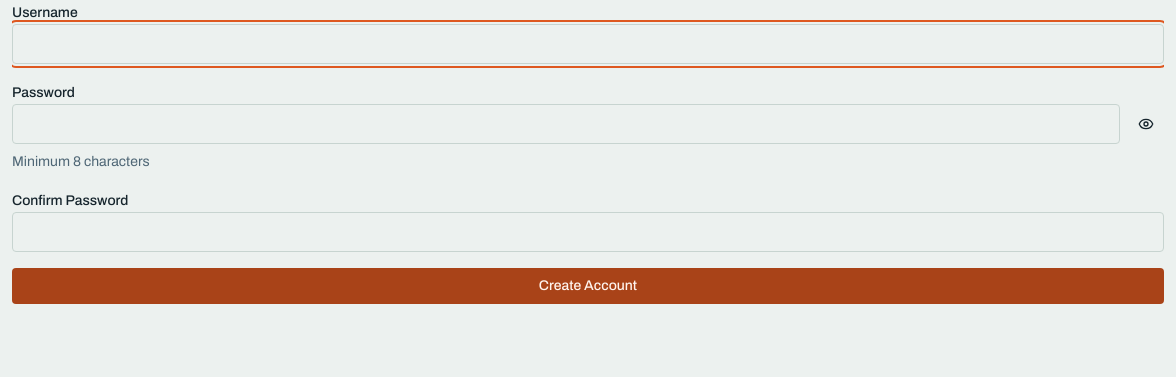
Scenario: LoginForm › password complexity (setup) › blocks a password missing uppercase/number/special when enforceComplexity is set
Type "admin" into the field labelled "Username" at (588, 44), box [12,24,1164,64]
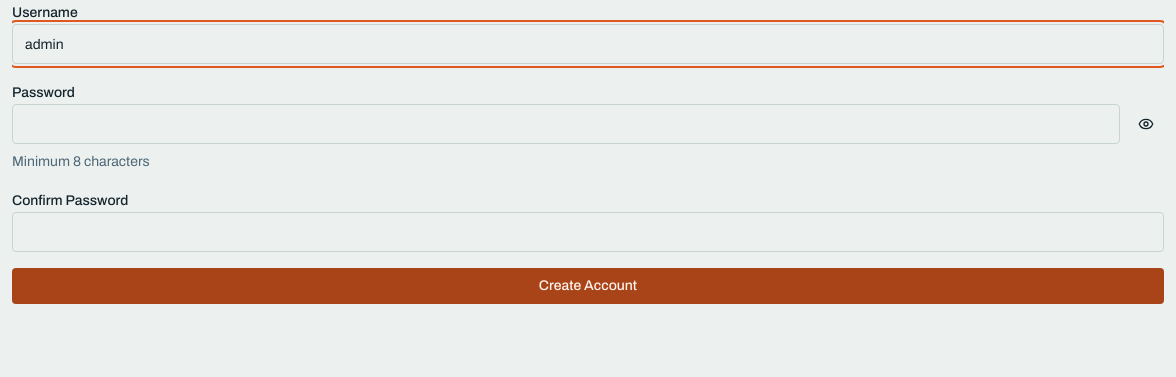
Type "lowercaseonly" into the password field labelled "Password" at (566, 124), box [12,104,1120,144]
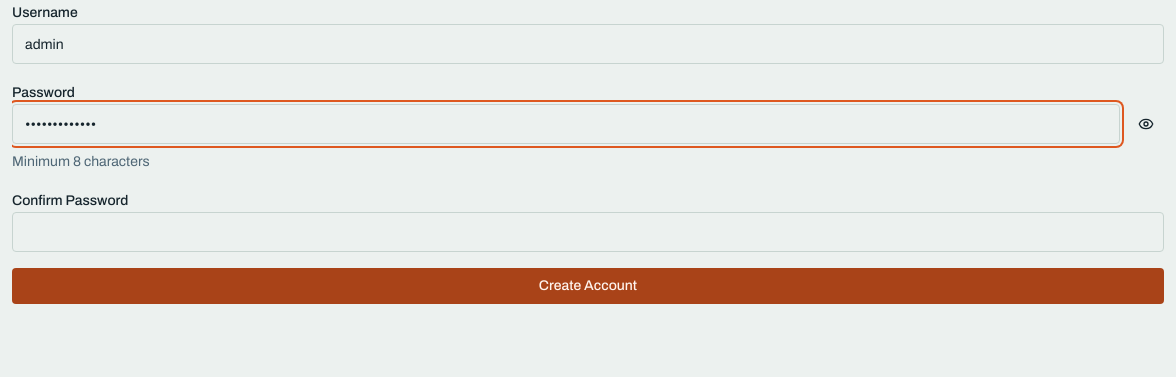
Click the button "Create Account" at (588, 286), box [12,268,1164,304]
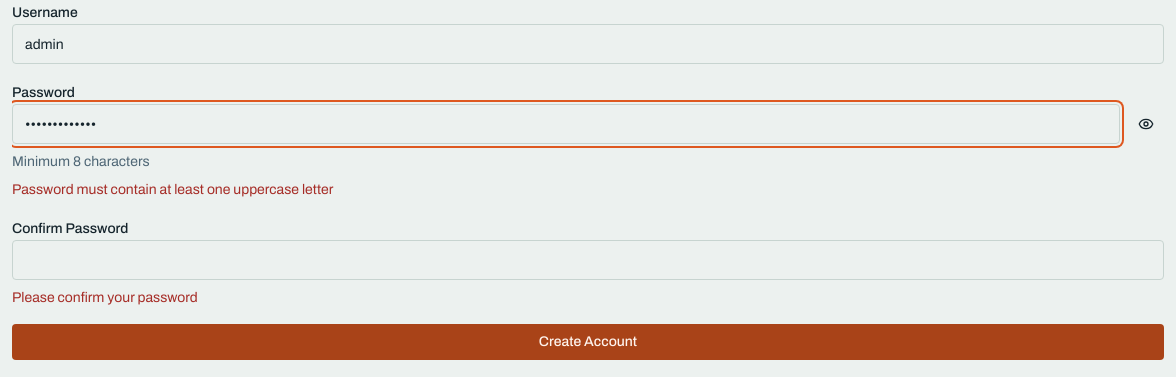
Now the text "Password must contain at least one uppercase letter" is shown, box [12,182,333,197]
